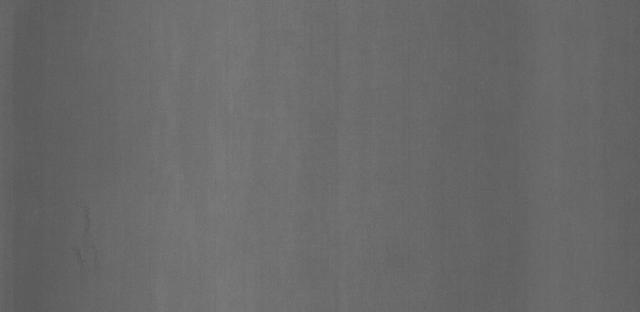water_spot: (71, 188, 108, 276)
